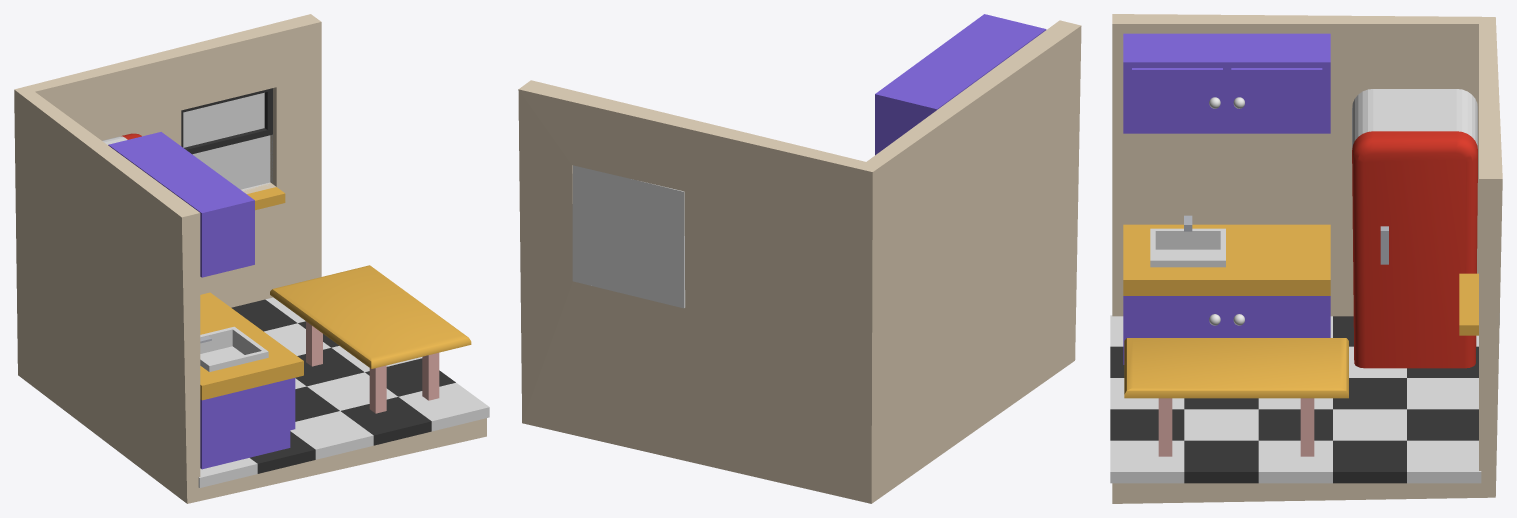
Rendered from room.gltf.
3 views of the same model, side by side, from view 1: azimuth 30°, elevation 25°; view 2: azimuth 150°, elevation 25°; view 3: azimuth 270°, elevation 25° (orthographic). The views are drawn at different scales.
Visible parts, largest first — view 1: Plane, Plane.018, desktop, Plane.007, Cube.002, Plane.003, Plane.004, Cube.001, deskleg4, deskleg3, deskleg1, Plane.011; view 2: Plane, Cube.002, Plane.007; view 3: Plane, Plane.018, Plane.006, desktop, Plane.004, Plane.008, Plane.007, Plane.005, Plane.002, Cube.001, Plane.011, Plane.003 (+2 smaller).
Part boxes in pixels (left/top/right/bottom): Plane: left=14, top=14, right=486, bottom=503; Plane.018: left=198, top=297, right=489, bottom=487; desktop: left=270, top=265, right=471, bottom=368; Plane.007: left=108, top=132, right=254, bottom=277; Cube.002: left=181, top=88, right=272, bottom=191; Plane.003: left=200, top=379, right=290, bottom=469; Plane.004: left=200, top=292, right=303, bottom=400; Cube.001: left=200, top=326, right=268, bottom=371; deskleg4: left=369, top=365, right=386, bottom=413; deskleg3: left=422, top=352, right=439, bottom=400; deskleg1: left=306, top=321, right=322, bottom=366; Plane.011: left=247, top=187, right=285, bottom=210; Plane: left=518, top=20, right=1081, bottom=503; Cube.002: left=572, top=165, right=685, bottom=308; Plane.007: left=875, top=14, right=1046, bottom=155; Plane: left=1112, top=14, right=1502, bottom=503; Plane.018: left=1110, top=315, right=1481, bottom=483; Plane.006: left=1352, top=131, right=1477, bottom=368; desktop: left=1124, top=338, right=1348, bottom=398; Plane.004: left=1123, top=224, right=1330, bottom=295; Plane.008: left=1132, top=68, right=1322, bottom=130; Plane.007: left=1123, top=33, right=1330, bottom=133; Plane.005: left=1132, top=296, right=1322, bottom=337; Plane.002: left=1352, top=89, right=1477, bottom=149; Cube.001: left=1150, top=228, right=1225, bottom=267; Plane.011: left=1459, top=273, right=1478, bottom=335; Plane.003: left=1123, top=296, right=1330, bottom=364.
Bounding box in the file's own units: 6.45 × 5.89 × 6.45.
